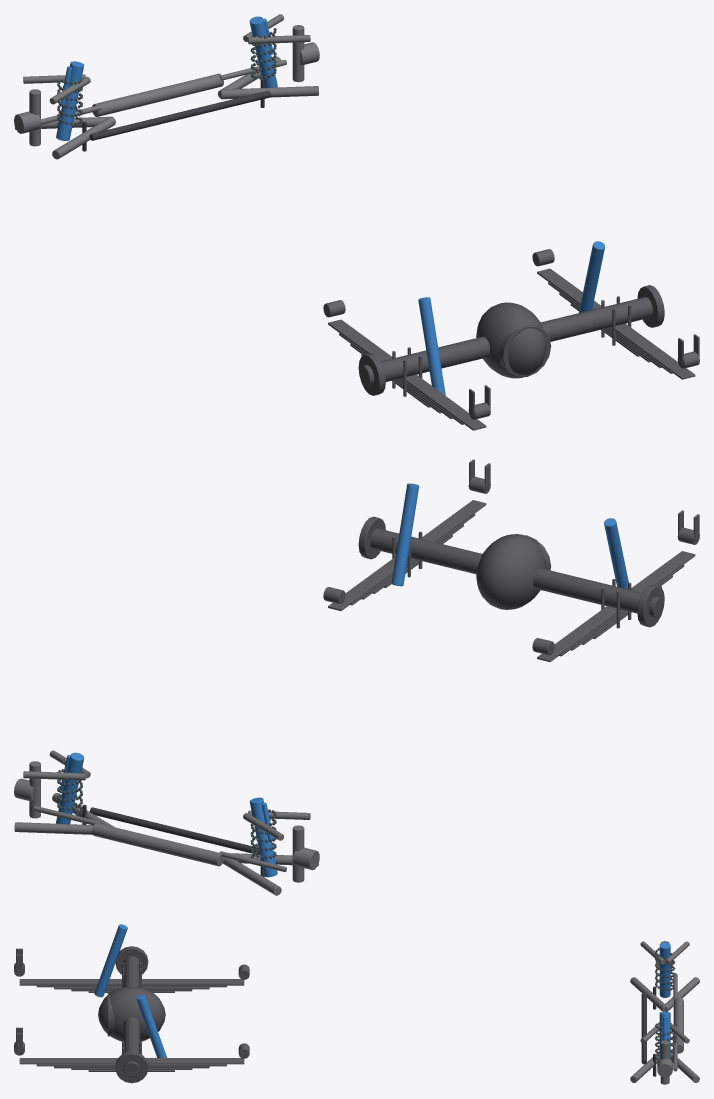
File: suspension.glb
3 renders of one model, top to bottom at view 1: azimuth 30°, elevation 25°; view 2: azimuth 150°, elevation 25°; view 3: azimuth 270°, elevation 25°, orthographic. The views are drawn at different scales.
Visible parts, largest first — view 1: SUSP_RearLiveAxleHousing, SUSP_RearLeafSpringPack_R, SUSP_RearLeafSpringPack_L, SUSP_FrontWishbone_L, SUSP_FrontWishbone_R, SUSP_FrontSteeringRack, SUSP_FrontAntiRollBar, SUSP_RearShockAbsorber_R, SUSP_FrontShockDamper_R, SUSP_FrontShockDamper_L, SUSP_RearShockAbsorber_L; view 2: SUSP_RearLiveAxleHousing, SUSP_RearLeafSpringPack_R, SUSP_RearLeafSpringPack_L, SUSP_FrontSteeringRack, SUSP_FrontWishbone_R, SUSP_FrontWishbone_L, SUSP_FrontAntiRollBar, SUSP_RearShockAbsorber_L, SUSP_FrontShockDamper_R, SUSP_RearShockAbsorber_R, SUSP_FrontShockDamper_L; view 3: SUSP_RearLiveAxleHousing, SUSP_RearLeafSpringPack_R, SUSP_RearLeafSpringPack_L, SUSP_FrontWishbone_L, SUSP_FrontWishbone_R, SUSP_RearShockAbsorber_R, SUSP_FrontSteeringRack, SUSP_RearShockAbsorber_L, SUSP_FrontShockDamper_R, SUSP_FrontAntiRollBar, SUSP_FrontShockDamper_L, SUSP_FrontCoilSpring_R (+1 smaller).
Part boxes in pixels (x1,y1,x2,y2): SUSP_RearLiveAxleHousing: (358, 285, 664, 395); SUSP_RearLeafSpringPack_R: (323, 300, 490, 430); SUSP_RearLeafSpringPack_L: (532, 249, 699, 379); SUSP_FrontWishbone_L: (218, 14, 319, 99); SUSP_FrontWishbone_R: (14, 74, 115, 159); SUSP_FrontSteeringRack: (41, 60, 286, 124); SUSP_FrontAntiRollBar: (82, 78, 270, 151); SUSP_RearShockAbsorber_R: (418, 297, 445, 395); SUSP_FrontShockDamper_R: (56, 61, 84, 140); SUSP_FrontShockDamper_L: (249, 16, 277, 87); SUSP_RearShockAbsorber_L: (579, 241, 604, 312); SUSP_RearLiveAxleHousing: (358, 516, 664, 627); SUSP_RearLeafSpringPack_R: (532, 510, 699, 661); SUSP_RearLeafSpringPack_L: (323, 459, 490, 610); SUSP_FrontSteeringRack: (33, 806, 286, 871); SUSP_FrontWishbone_R: (222, 810, 319, 895); SUSP_FrontWishbone_L: (14, 750, 113, 834); SUSP_FrontAntiRollBar: (82, 804, 264, 877); SUSP_RearShockAbsorber_L: (391, 483, 419, 586); SUSP_FrontShockDamper_R: (249, 797, 277, 877); SUSP_RearShockAbsorber_R: (604, 518, 628, 589); SUSP_FrontShockDamper_L: (56, 752, 84, 824); SUSP_RearLiveAxleHousing: (98, 946, 165, 1083); SUSP_RearLeafSpringPack_R: (14, 948, 249, 992); SUSP_RearLeafSpringPack_L: (14, 1027, 249, 1071); SUSP_FrontWishbone_L: (630, 1022, 699, 1084); SUSP_FrontWishbone_R: (630, 941, 699, 1011); SUSP_RearShockAbsorber_R: (94, 924, 127, 997); SUSP_FrontSteeringRack: (673, 973, 683, 1071); SUSP_RearShockAbsorber_L: (136, 994, 167, 1057); SUSP_FrontShockDamper_R: (659, 942, 670, 997); SUSP_FrontAntiRollBar: (641, 986, 656, 1076); SUSP_FrontShockDamper_L: (659, 1011, 670, 1058); SUSP_FrontCoilSpring_R: (655, 948, 675, 990).
Size of the model in its own units: 1.53 by 0.5246 by 3.97.
